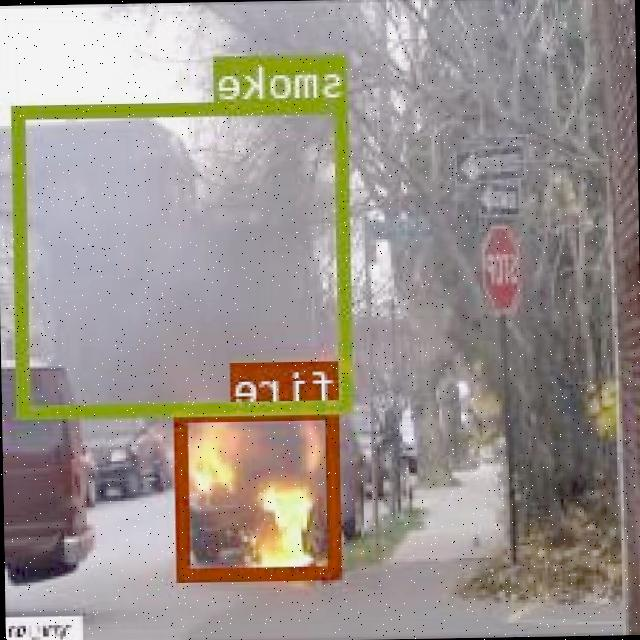fire: (177, 403, 342, 577)
smoke: (16, 98, 353, 416)
